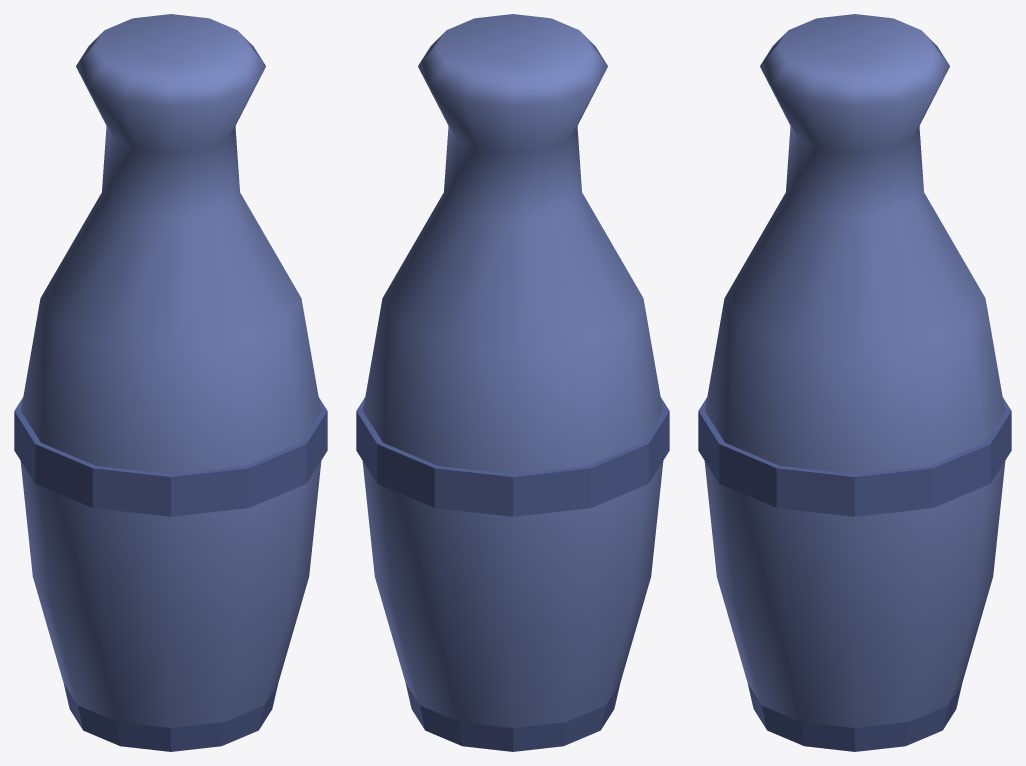
File: blue_dungeon_vase_v0.glb
3 views of the same model, side by side, from view 1: azimuth 30°, elevation 25°; view 2: azimuth 150°, elevation 25°; view 3: azimuth 270°, elevation 25° (orthographic).
Parts seen in each view (by area): view 1: blue_dungeon_vase_v0; view 2: blue_dungeon_vase_v0; view 3: blue_dungeon_vase_v0.
Part boxes in pixels (x1=…): blue_dungeon_vase_v0: x1=14, y1=14, x2=327, y2=751; blue_dungeon_vase_v0: x1=356, y1=14, x2=669, y2=751; blue_dungeon_vase_v0: x1=698, y1=14, x2=1011, y2=751.
Bounding box in the file's own units: 0.4284 × 1 × 0.4284.
